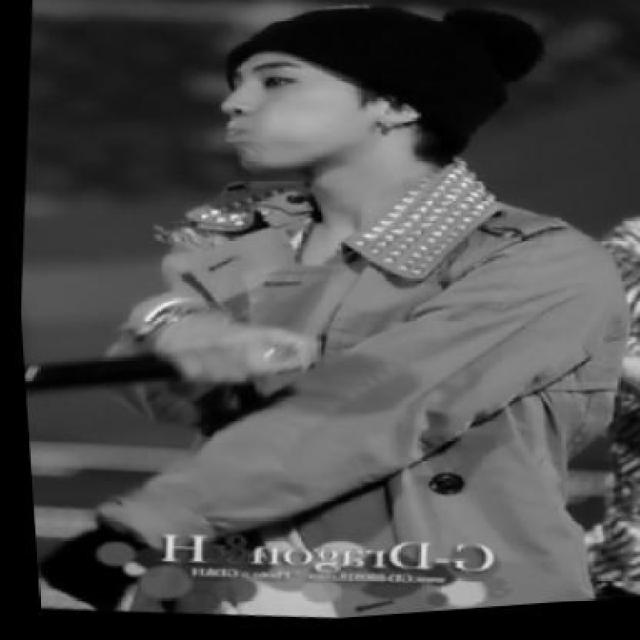hat: (221, 11, 539, 146)
